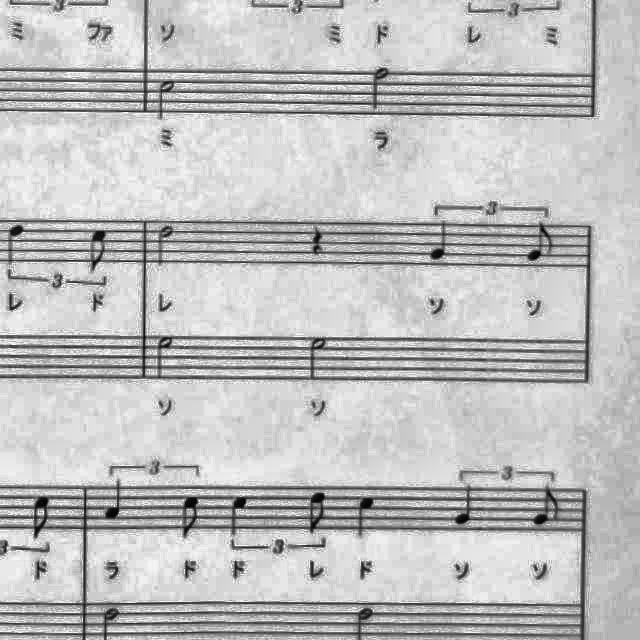Eighth-note: (527, 483, 565, 533), (520, 217, 558, 267), (176, 492, 207, 546), (26, 492, 58, 544), (302, 487, 334, 539), (85, 224, 115, 276)
Half-note: (367, 62, 398, 118), (303, 331, 333, 385), (150, 332, 178, 384), (154, 75, 182, 125), (152, 220, 180, 270)
Quarter-note: (450, 479, 486, 529), (350, 491, 382, 544), (426, 216, 458, 266), (2, 218, 30, 270), (225, 490, 258, 534), (99, 476, 129, 524)
Quarter-rest: (304, 219, 332, 261)
